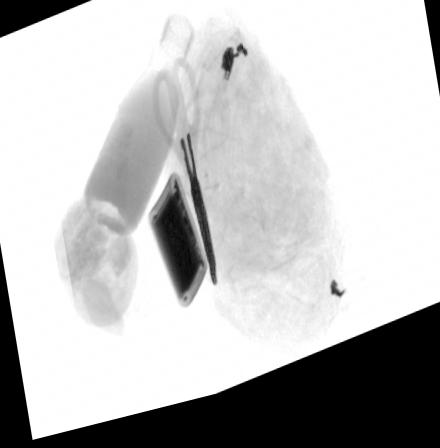Powerbank: (146, 177, 208, 318)
Scissors: (149, 63, 220, 297)
